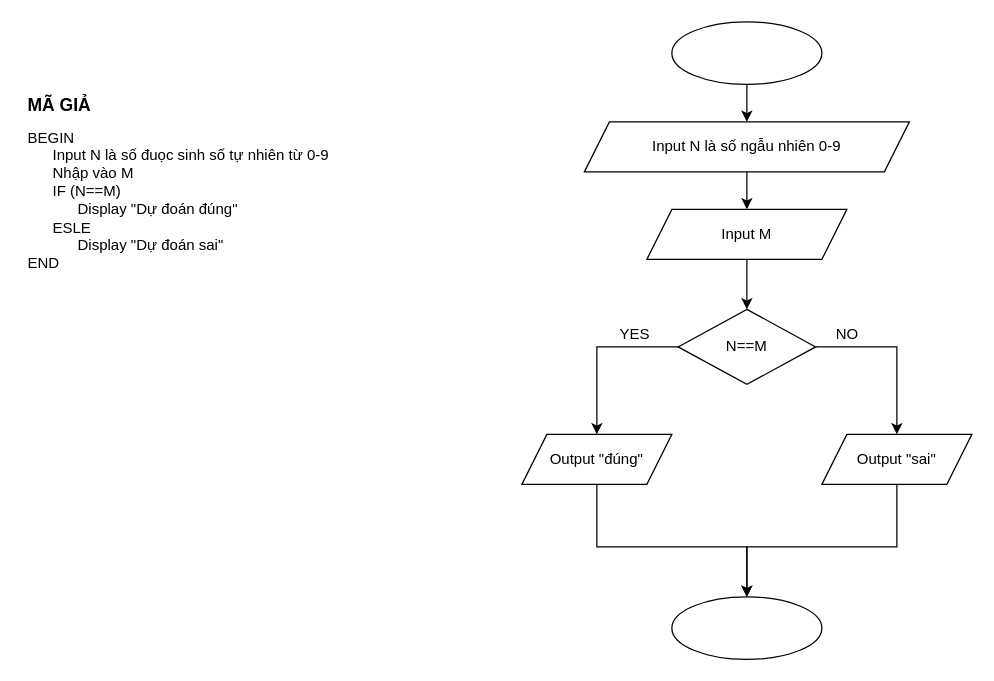
This 994x681 diagram has some shape labels left out. Here are the shapes that lost their labels. From the top down, the centre of each, then its label:
At pixel 746 52: "BEGIN".
At pixel 746 627: "END".
